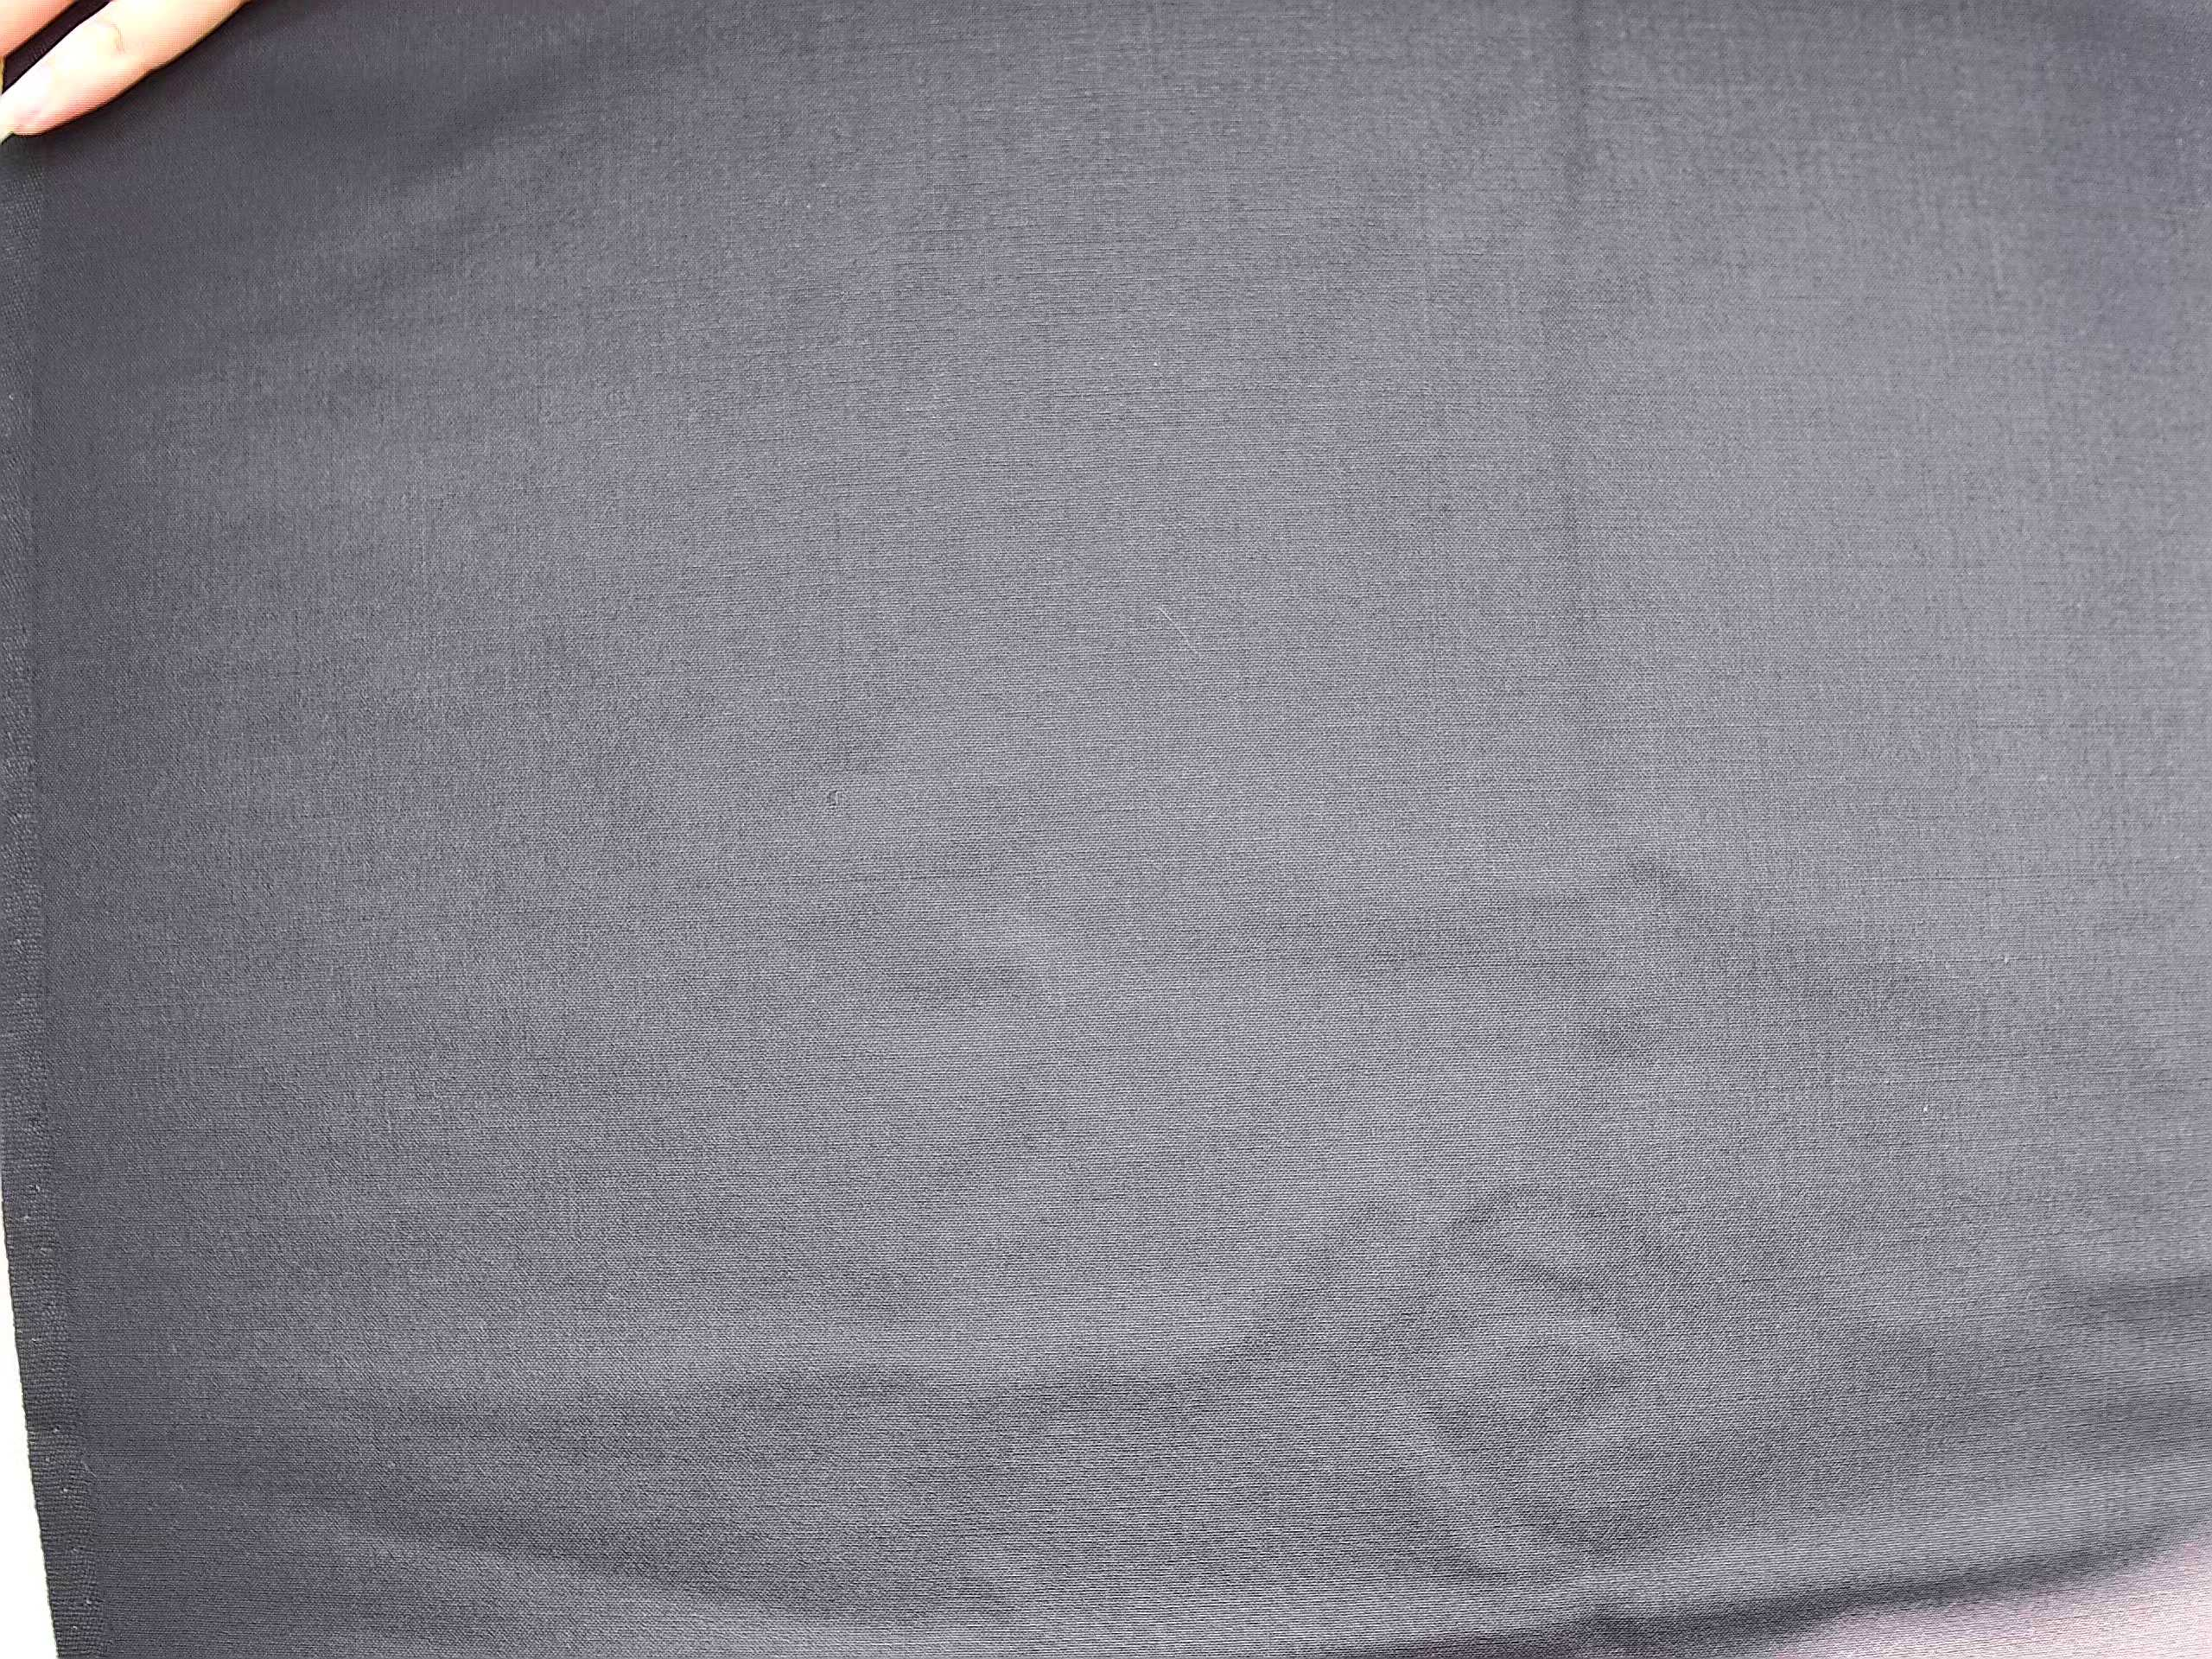rubbing-hole: (798, 763, 867, 826)
